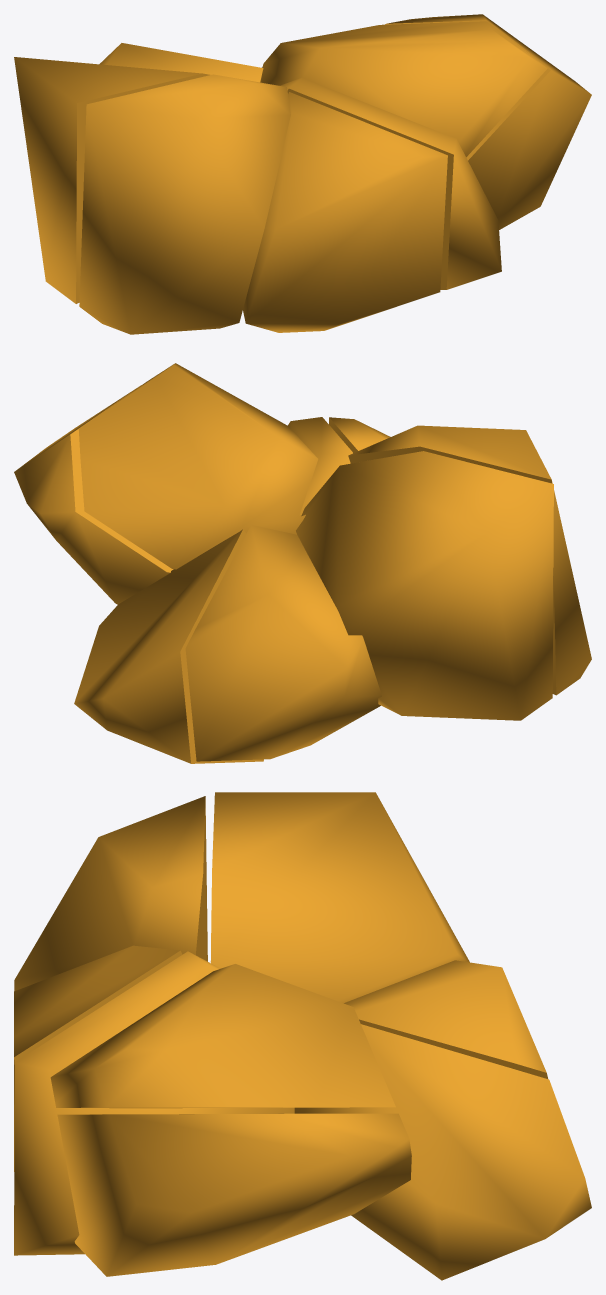
Rendered from GemDestroyed.fbx.
3 views of the same model, one above another, from view 1: azimuth 30°, elevation 25°; view 2: azimuth 150°, elevation 25°; view 3: azimuth 270°, elevation 25° (orthographic). The views are drawn at different scales.
Visible parts, largest first — view 1: Stones.105_cell, Stones.106_cell.001, Stones.022_cell, Stones.105_cell.001, Stones.022_cell.001, Stones.106_cell, Stones.104_cell.001; view 2: Stones.105_cell.001, Stones.022_cell, Stones.104_cell.001, Stones.104_cell, Stones.105_cell, Stones.022_cell.001, Stones.106_cell, Stones.106_cell.001; view 3: Stones.022_cell.001, Stones.105_cell.001, Stones.104_cell, Stones.022_cell, Stones.105_cell, Stones.106_cell, Stones.104_cell.001, Stones.106_cell.001.
Boxes of the visible parts, <box> form: Stones.105_cell: <box>79,74,290,334</box>; Stones.106_cell.001: <box>243,92,447,332</box>; Stones.022_cell: <box>260,21,547,157</box>; Stones.105_cell.001: <box>14,57,209,303</box>; Stones.022_cell.001: <box>385,14,591,229</box>; Stones.106_cell: <box>280,78,501,289</box>; Stones.104_cell.001: <box>99,43,263,82</box>; Stones.105_cell.001: <box>296,451,553,720</box>; Stones.022_cell: <box>78,363,318,569</box>; Stones.104_cell.001: <box>185,525,381,761</box>; Stones.104_cell: <box>74,529,263,763</box>; Stones.105_cell: <box>348,425,591,695</box>; Stones.022_cell.001: <box>14,385,173,604</box>; Stones.106_cell: <box>287,417,352,515</box>; Stones.106_cell.001: <box>329,417,390,453</box>; Stones.022_cell.001: <box>57,1113,411,1276</box>; Stones.105_cell.001: <box>210,792,469,1003</box>; Stones.104_cell: <box>294,1024,591,1280</box>; Stones.022_cell: <box>50,964,395,1108</box>; Stones.105_cell: <box>14,796,207,991</box>; Stones.106_cell: <box>14,951,294,1255</box>; Stones.104_cell.001: <box>344,960,547,1078</box>; Stones.106_cell.001: <box>14,945,182,1171</box>.
Size of the model in its own units: 0.1736 by 0.0866 by 0.1394.
